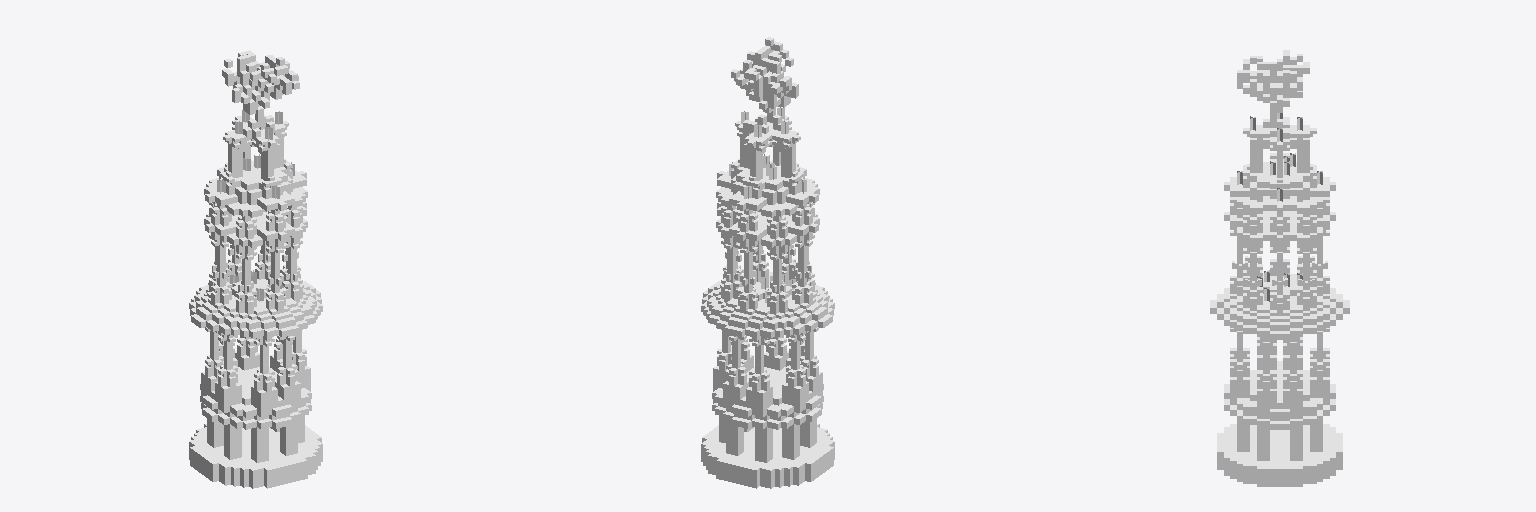
The model's file is torre.obj.
3 views of the same model, side by side, from view 1: azimuth 30°, elevation 25°; view 2: azimuth 150°, elevation 25°; view 3: azimuth 270°, elevation 25° (orthographic).
Parts seen in each view (by area): view 1: Commision5.schematic__3_0_0_to_27_255_29; view 2: Commision5.schematic__3_0_0_to_27_255_29; view 3: Commision5.schematic__3_0_0_to_27_255_29.
Boxes of the visible parts, <box> form: Commision5.schematic__3_0_0_to_27_255_29: <box>189,50,322,488</box>; Commision5.schematic__3_0_0_to_27_255_29: <box>701,37,834,488</box>; Commision5.schematic__3_0_0_to_27_255_29: <box>1210,50,1349,486</box>.
Size of the model in its own units: 0.3088 by 1 by 0.3088.